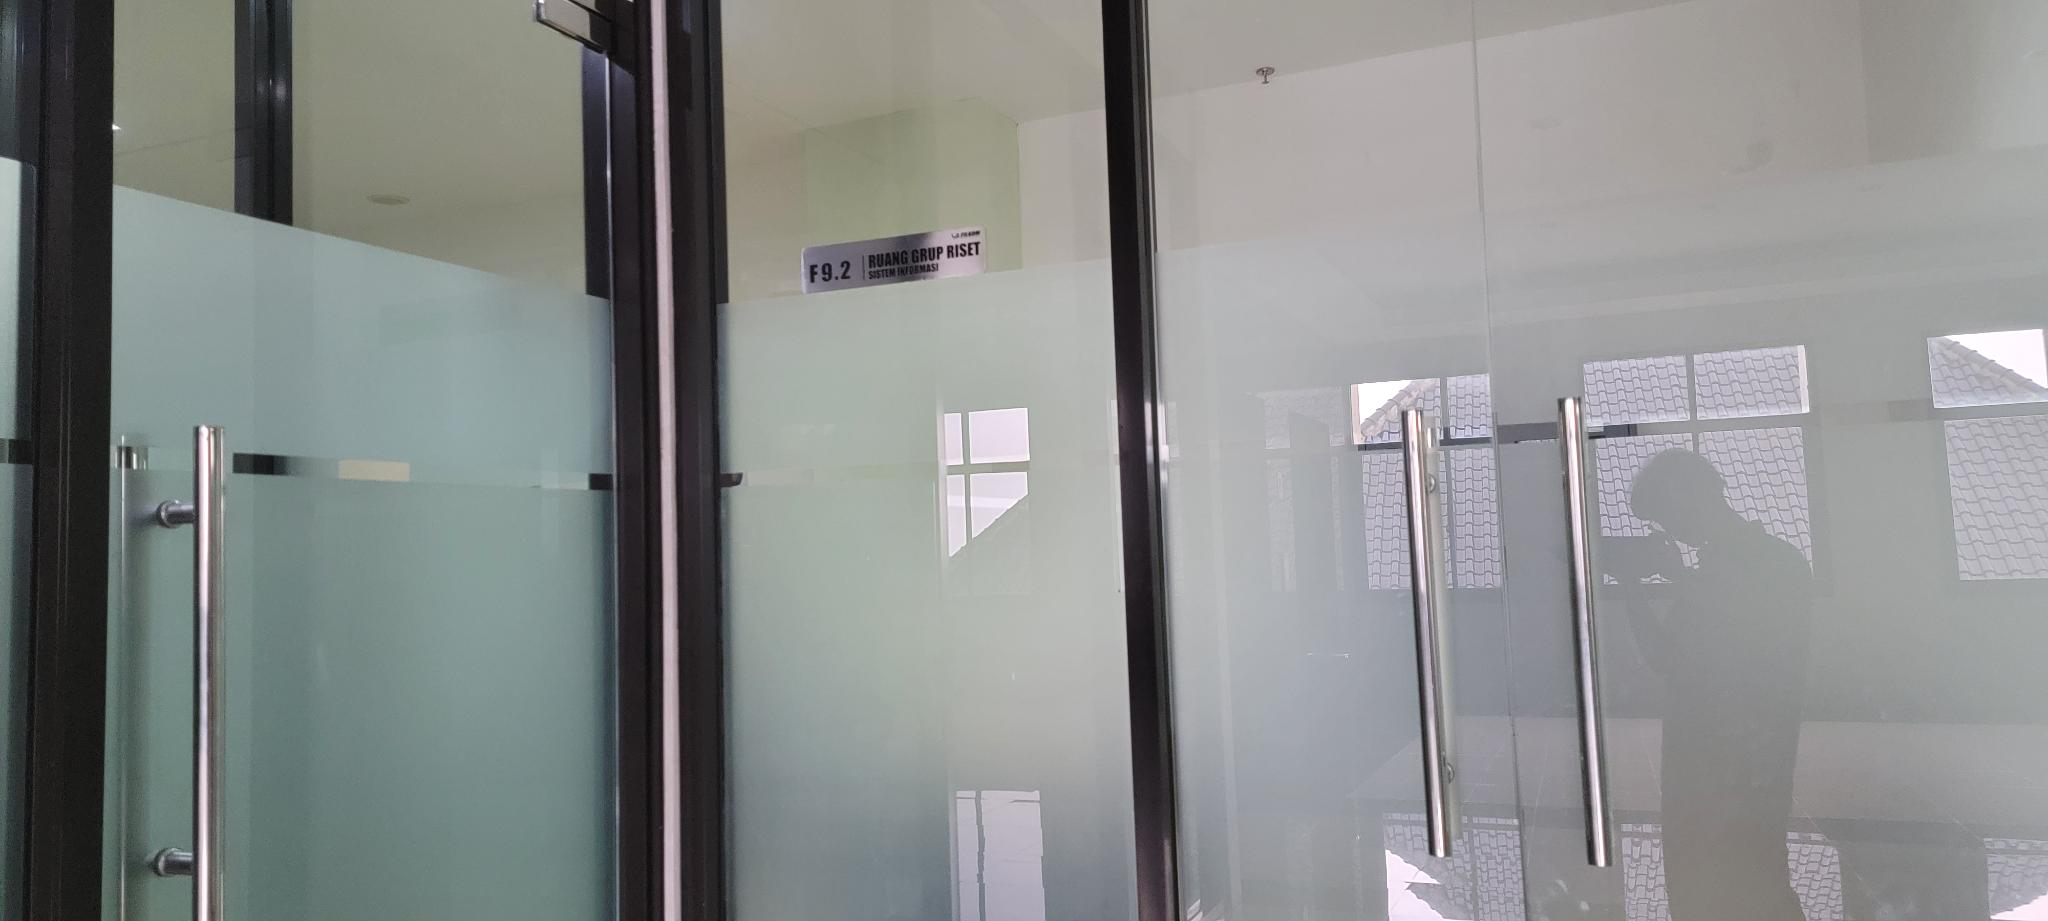plate: (798, 222, 993, 297)
